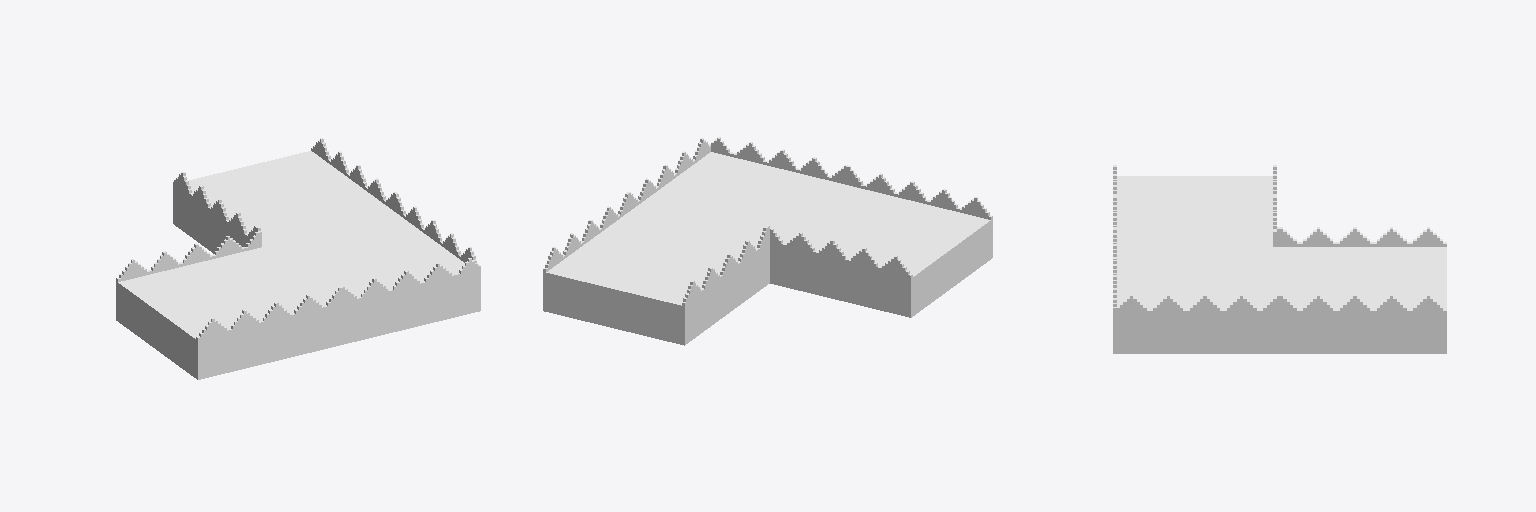
The model's file is pathL.obj.
3 views of the same model, side by side, from view 1: azimuth 30°, elevation 25°; view 2: azimuth 150°, elevation 25°; view 3: azimuth 270°, elevation 25° (orthographic).
Parts seen in each view (by area): view 1: object 1; view 2: object 1; view 3: object 1.
Part boxes in pixels (left/top/right/bottom): object 1: left=116, top=138, right=480, bottom=379; object 1: left=543, top=137, right=992, bottom=345; object 1: left=1113, top=165, right=1446, bottom=353.
Size of the model in its own units: 9.8 by 1.9 by 10.